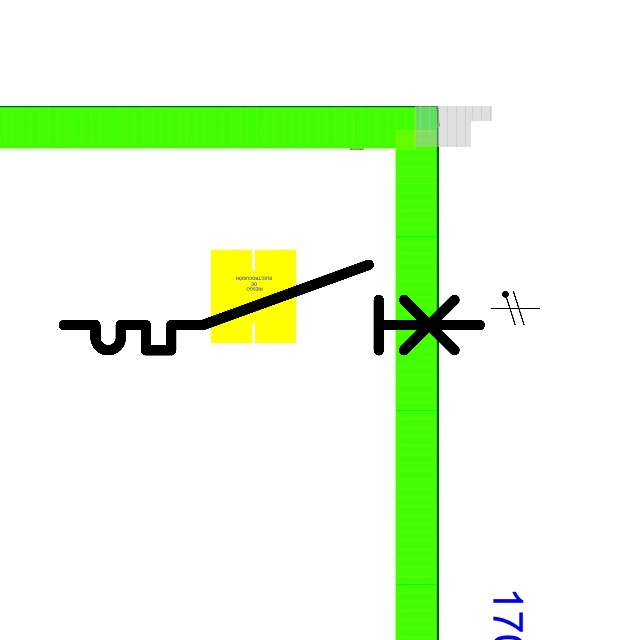interruptor_termomagnetico: (53, 254, 490, 361)
